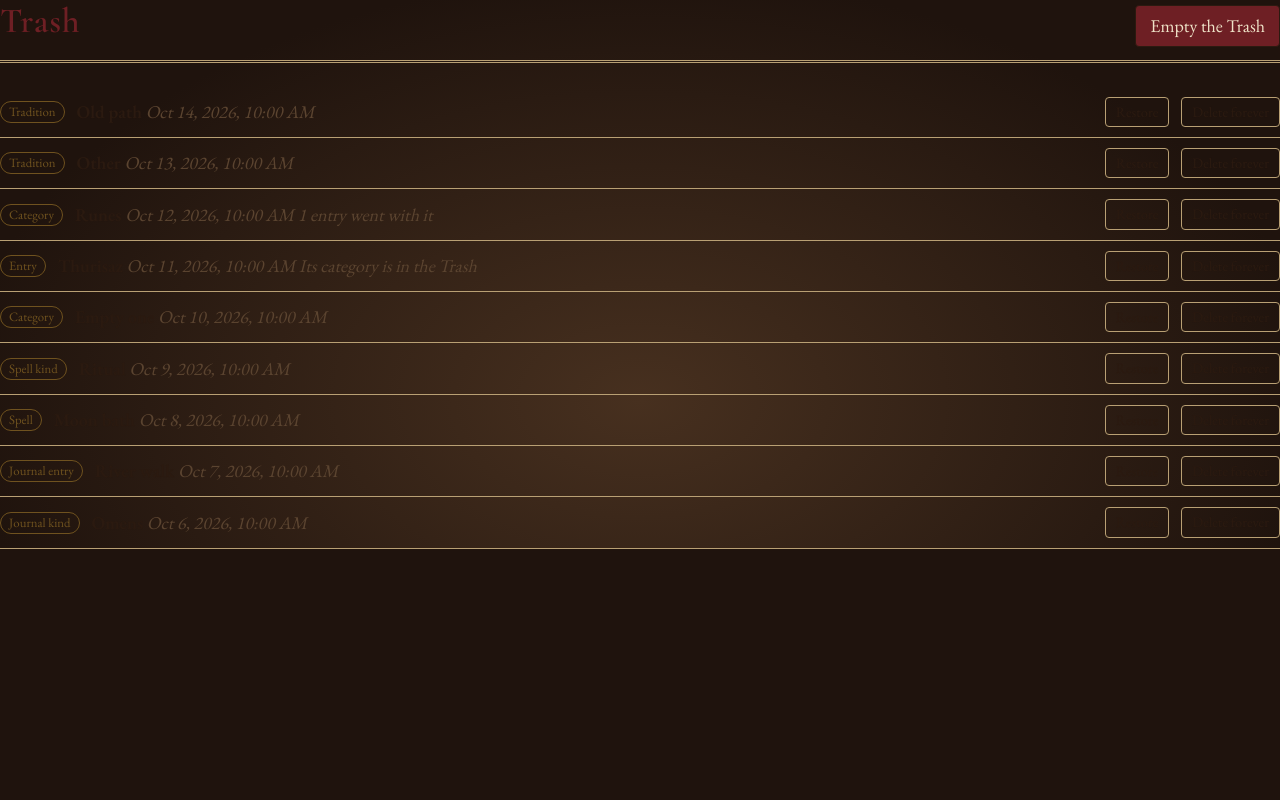
Scenario: Trash › names only the entries a category has when deleting it forever
Step 1. Click the button "Delete forever" in the row of "Runes" → (1231, 215), box [1181,200,1279,230]
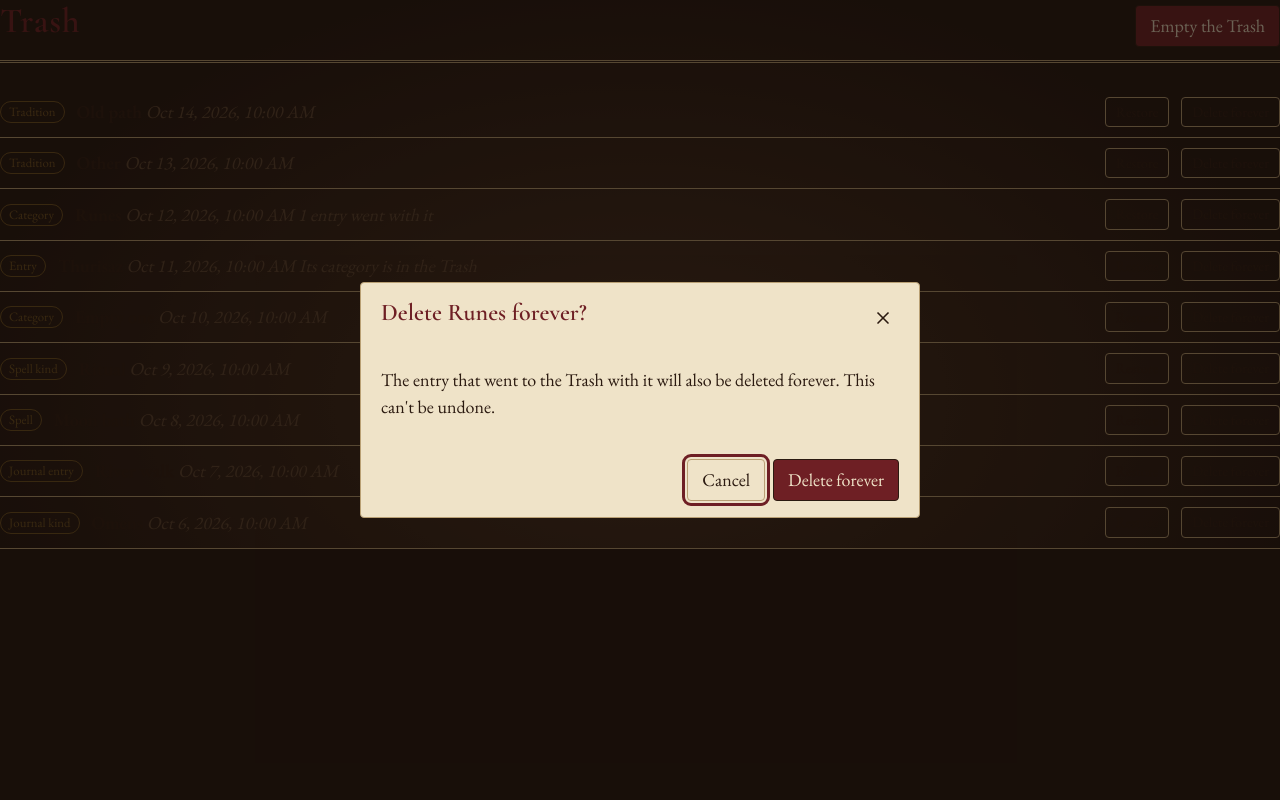
Expected: the text "The entry that went to the Trash with it will also be deleted forever. This can't be undone." is shown, [381,368,875,418]
